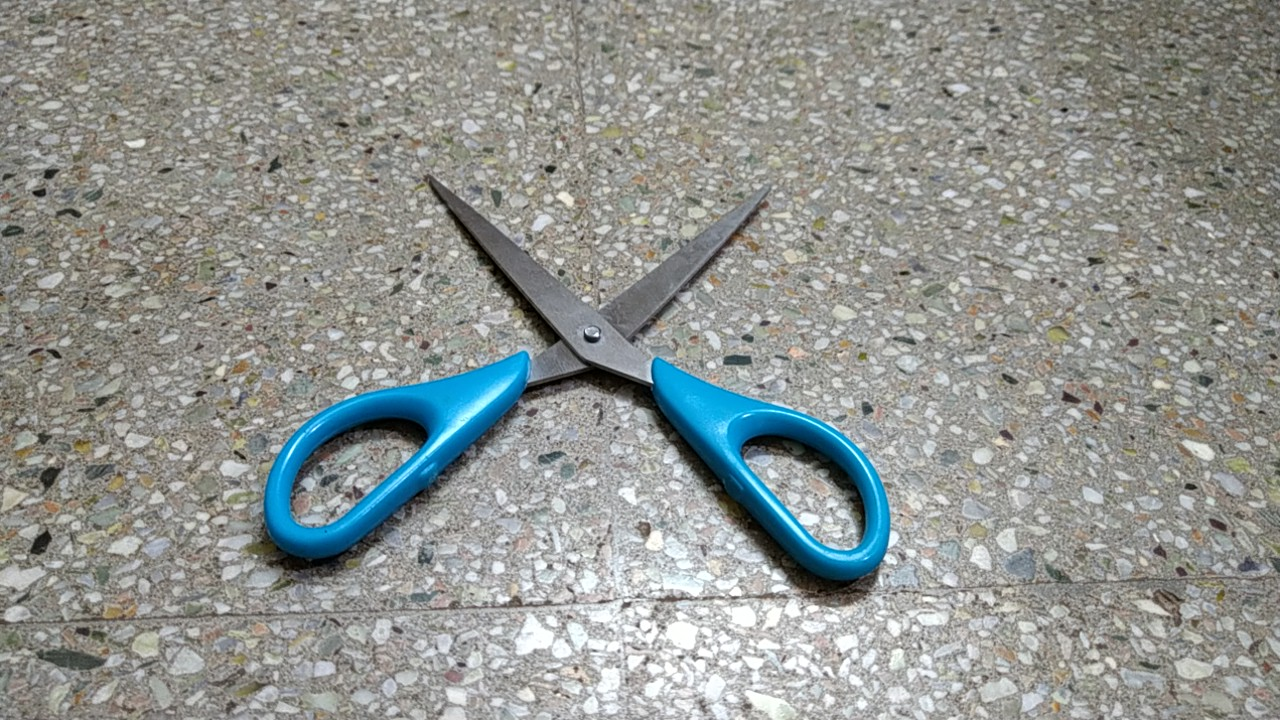scissor: (243, 164, 909, 625)
